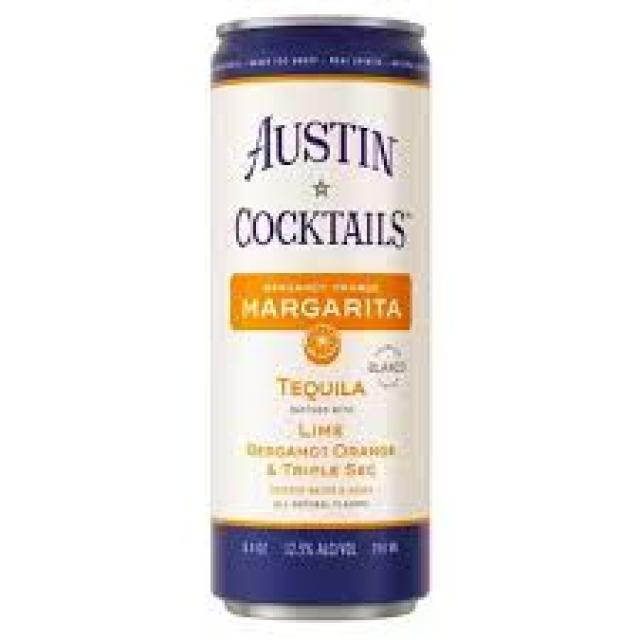Cans: (202, 11, 441, 626)
